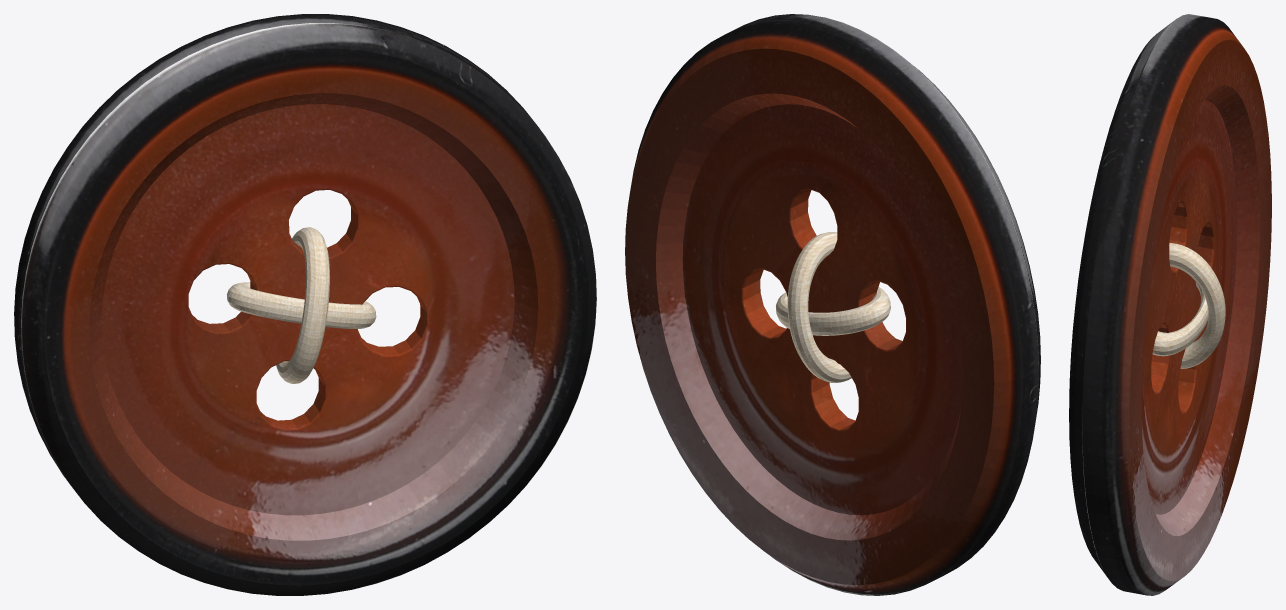
The model's file is Button.glb.
3 views of the same model, side by side, from view 1: azimuth 30°, elevation 25°; view 2: azimuth 150°, elevation 25°; view 3: azimuth 270°, elevation 25° (orthographic). The views are drawn at different scales.
Parts seen in each view (by area): view 1: Buttons; view 2: Buttons; view 3: Buttons.
Boxes of the visible parts, box(x1,y1,x2,y2) form: Buttons: box(14, 14, 596, 595); Buttons: box(625, 14, 1040, 595); Buttons: box(1069, 14, 1271, 595).
Size of the model in its own units: 0.00198 by 0.00219 by 0.000766.
Materials: 2 (2 with a texture image).
